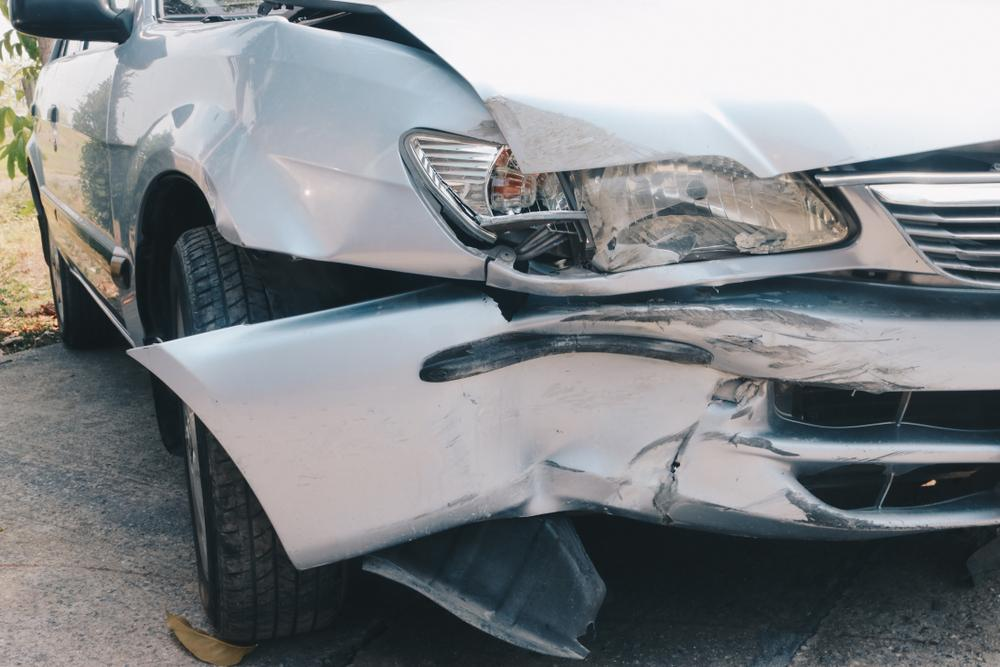crack: (482, 290, 527, 323), (482, 257, 494, 284)
dent: (442, 312, 716, 517), (228, 157, 367, 257), (705, 102, 848, 175)
lamp broken: (403, 131, 850, 272)
scratch: (674, 303, 941, 532), (488, 94, 694, 173)
